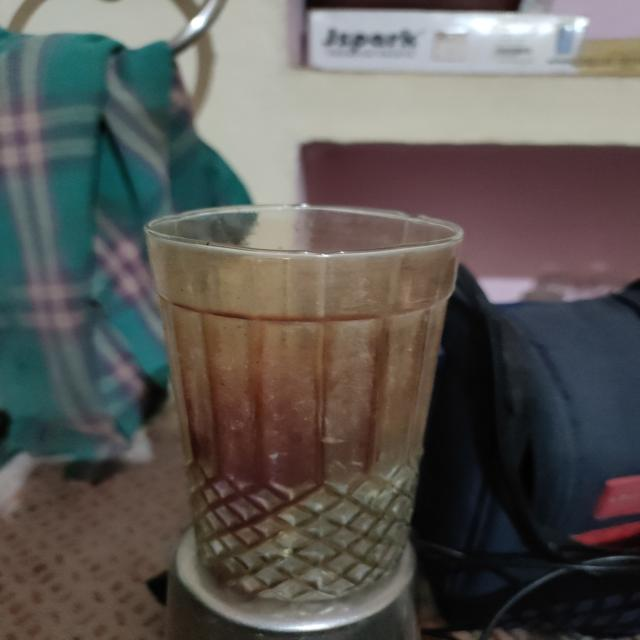Glass: (140, 200, 467, 627)
